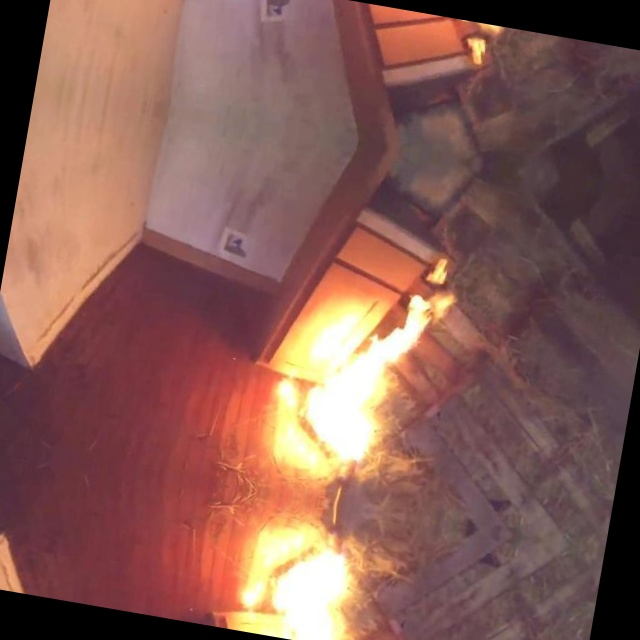fire: (223, 202, 458, 640)
